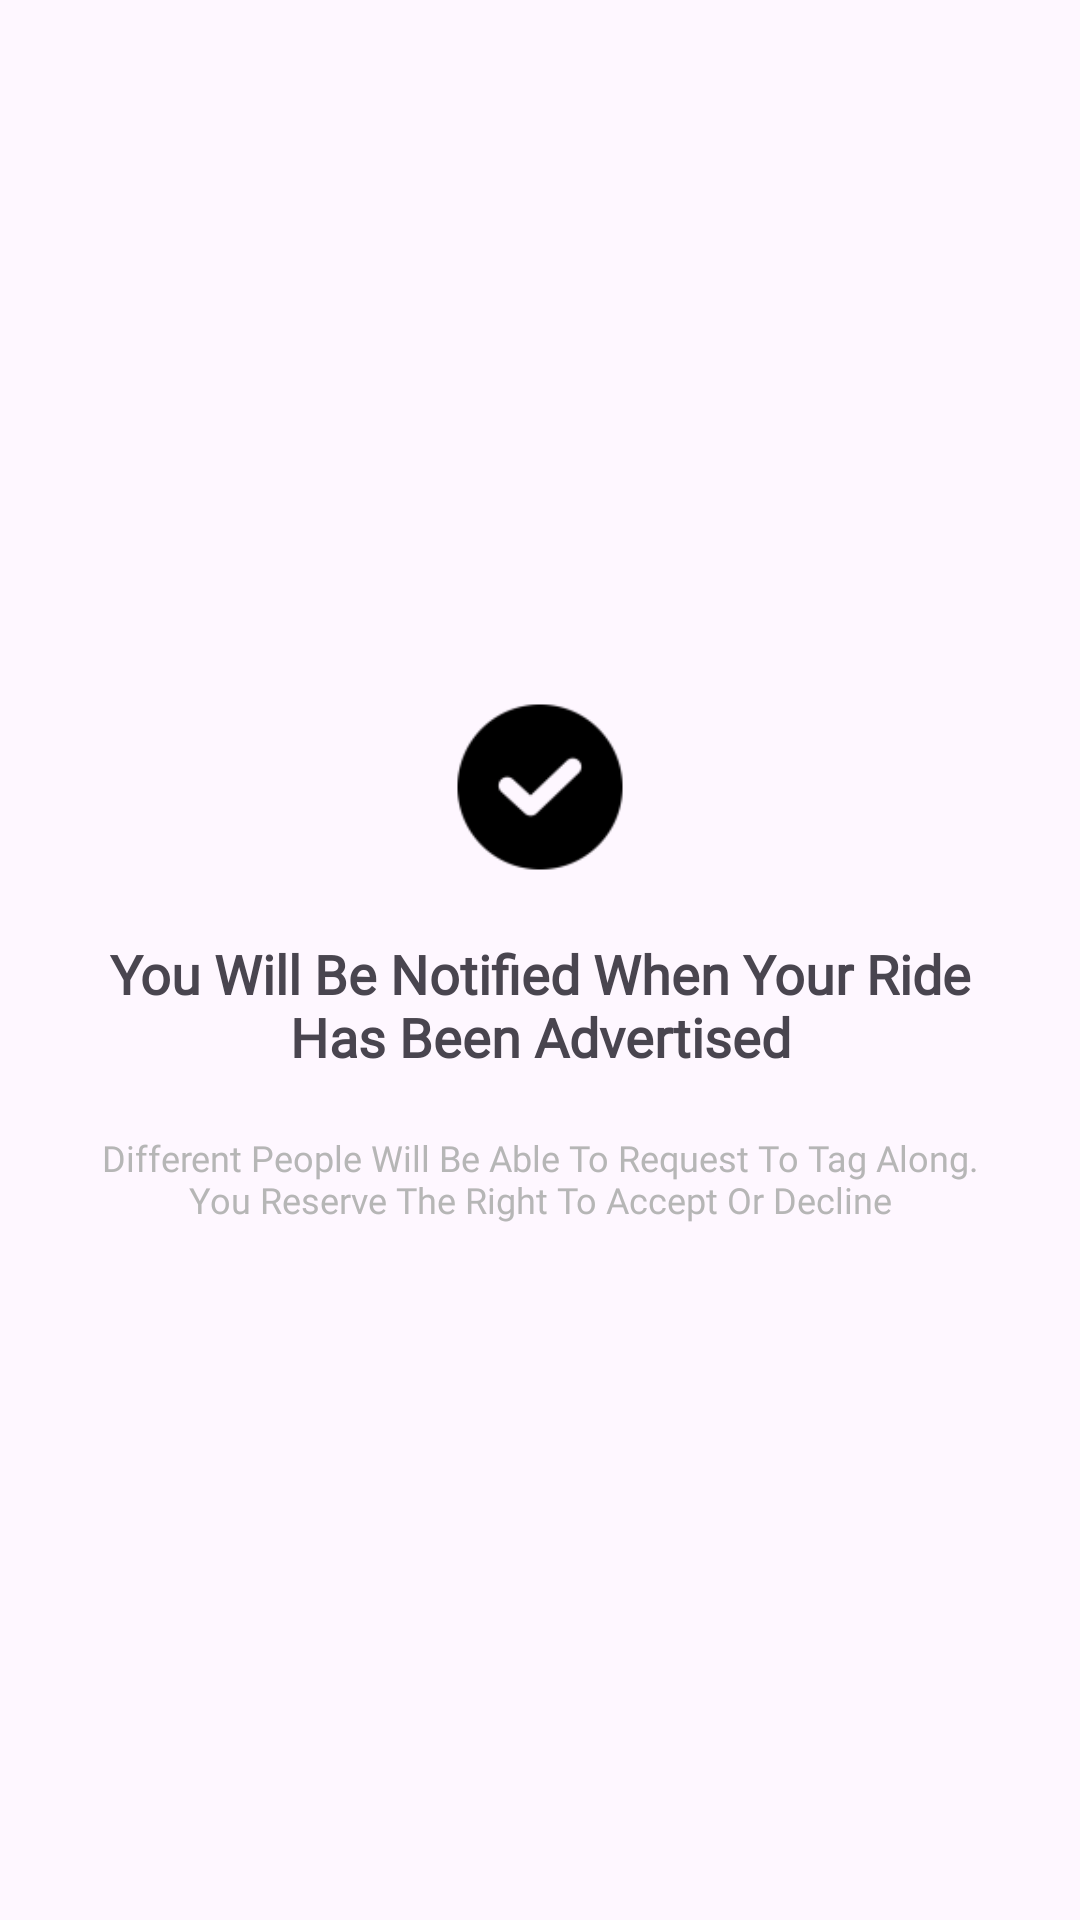

Icons on this 1080 x 1920 Android screen, each with its box as rect(x1, y1, x2, y2):
success: rect(457, 704, 623, 870)
